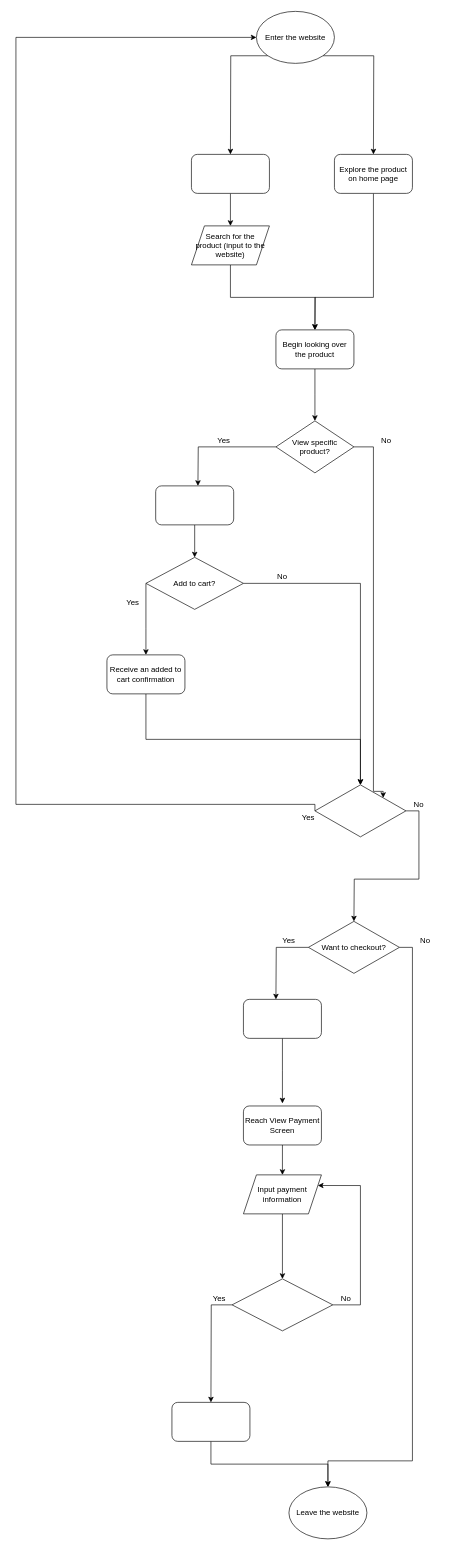
This 450x1550 diagram has some shape labels left out. The box of each missing label's shape, as (x1, y1, x2, y2) in pixels:
Continue Shopping?: (314, 784, 406, 837)
Payment went through?: (231, 1278, 333, 1331)
Product's webpage will open: (155, 485, 234, 525)
Reach the View Cart Screen: (243, 999, 321, 1038)
Search for a product: (191, 154, 269, 193)
See an order confirmation and receive an email.: (171, 1402, 250, 1441)
